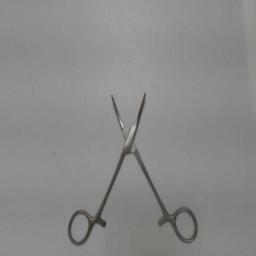Crile Artery Forceps: (64, 84, 202, 252)
